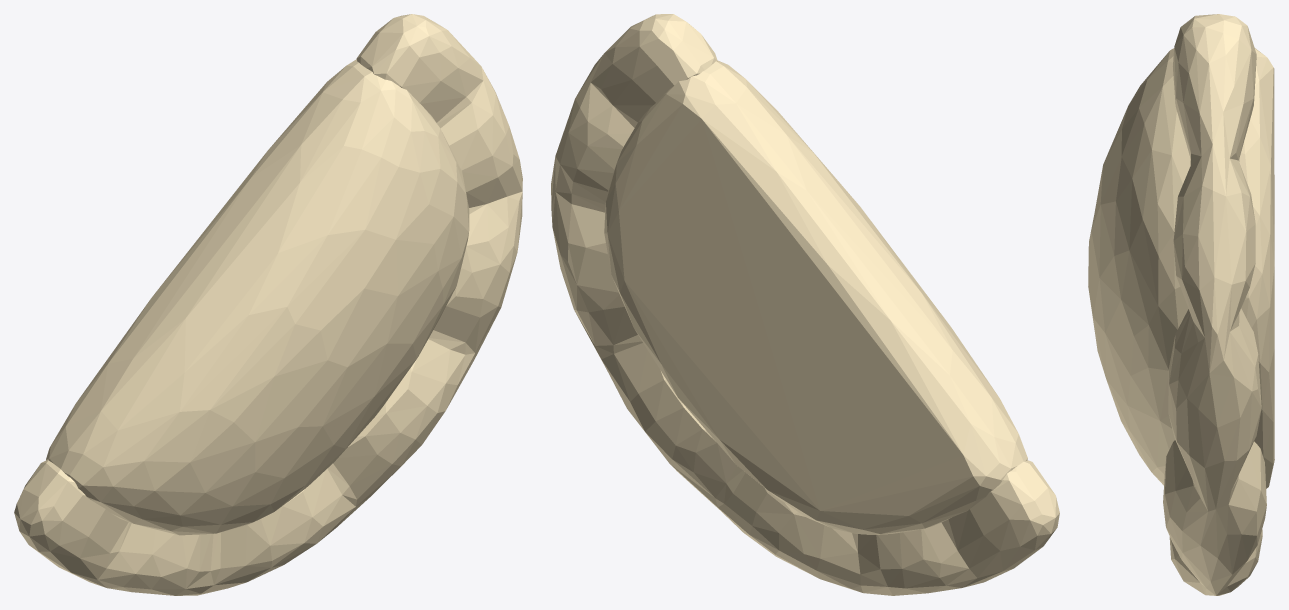
File: topping_dumpling.glb
The picture shows the model from 3 angles, left to right: view 1: azimuth 30°, elevation 25°; view 2: azimuth 150°, elevation 25°; view 3: azimuth 270°, elevation 25°; orthographic projection. The views are drawn at different scales.
Visible parts, largest first — view 1: Cube.653; view 2: Cube.653; view 3: Cube.653.
Boxes of the visible parts, left/top/right/bottom form: Cube.653: left=14, top=14, right=522, bottom=595; Cube.653: left=551, top=14, right=1059, bottom=595; Cube.653: left=1088, top=14, right=1274, bottom=595.
Size of the model in its own units: 8.22 by 8.21 by 2.06.
